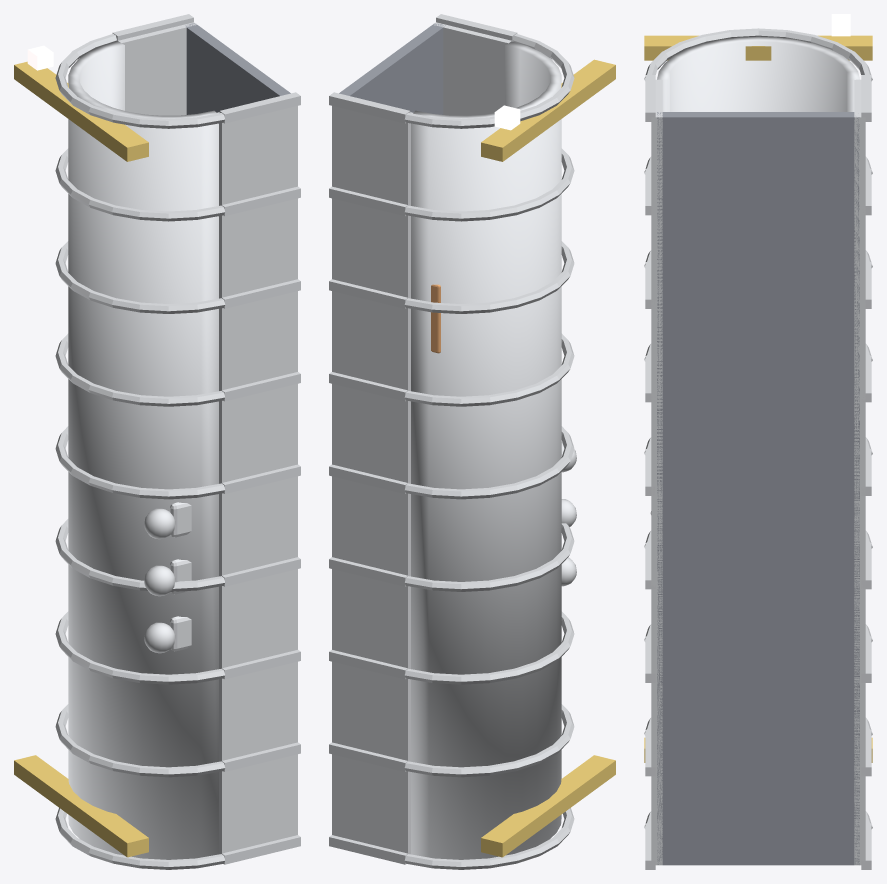
Rendered from corr_air__corr_air.fbx.
The picture shows the model from 3 angles, left to right: view 1: azimuth 30°, elevation 25°; view 2: azimuth 150°, elevation 25°; view 3: azimuth 270°, elevation 25°; orthographic projection.
Visible parts, largest first — view 1: corr_air__corr_air; view 2: corr_air__corr_air; view 3: corr_air__corr_air.
Boxes of the visible parts, left/top/right/bottom form: corr_air__corr_air: left=14, top=14, right=300, bottom=869; corr_air__corr_air: left=329, top=14, right=615, bottom=869; corr_air__corr_air: left=644, top=14, right=872, bottom=869.
Bounding box in the file's own units: 3.2 × 13.4 × 3.6.
